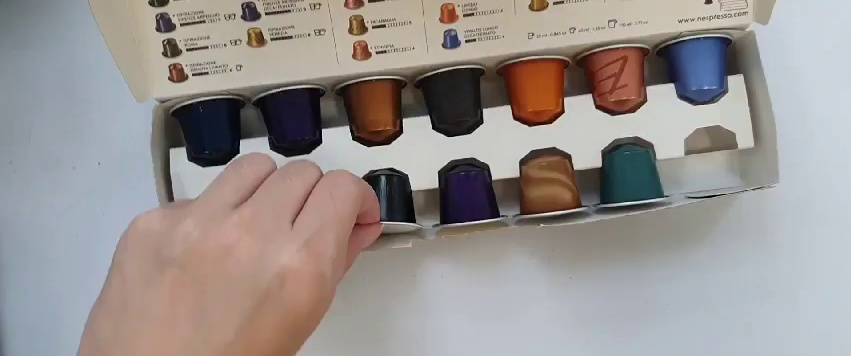capsule_10: (350, 168, 422, 235)
